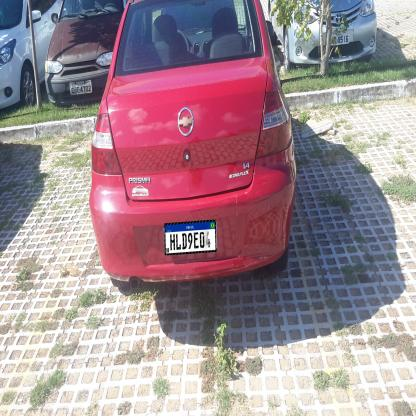PlacaM: (164, 220, 217, 255)
